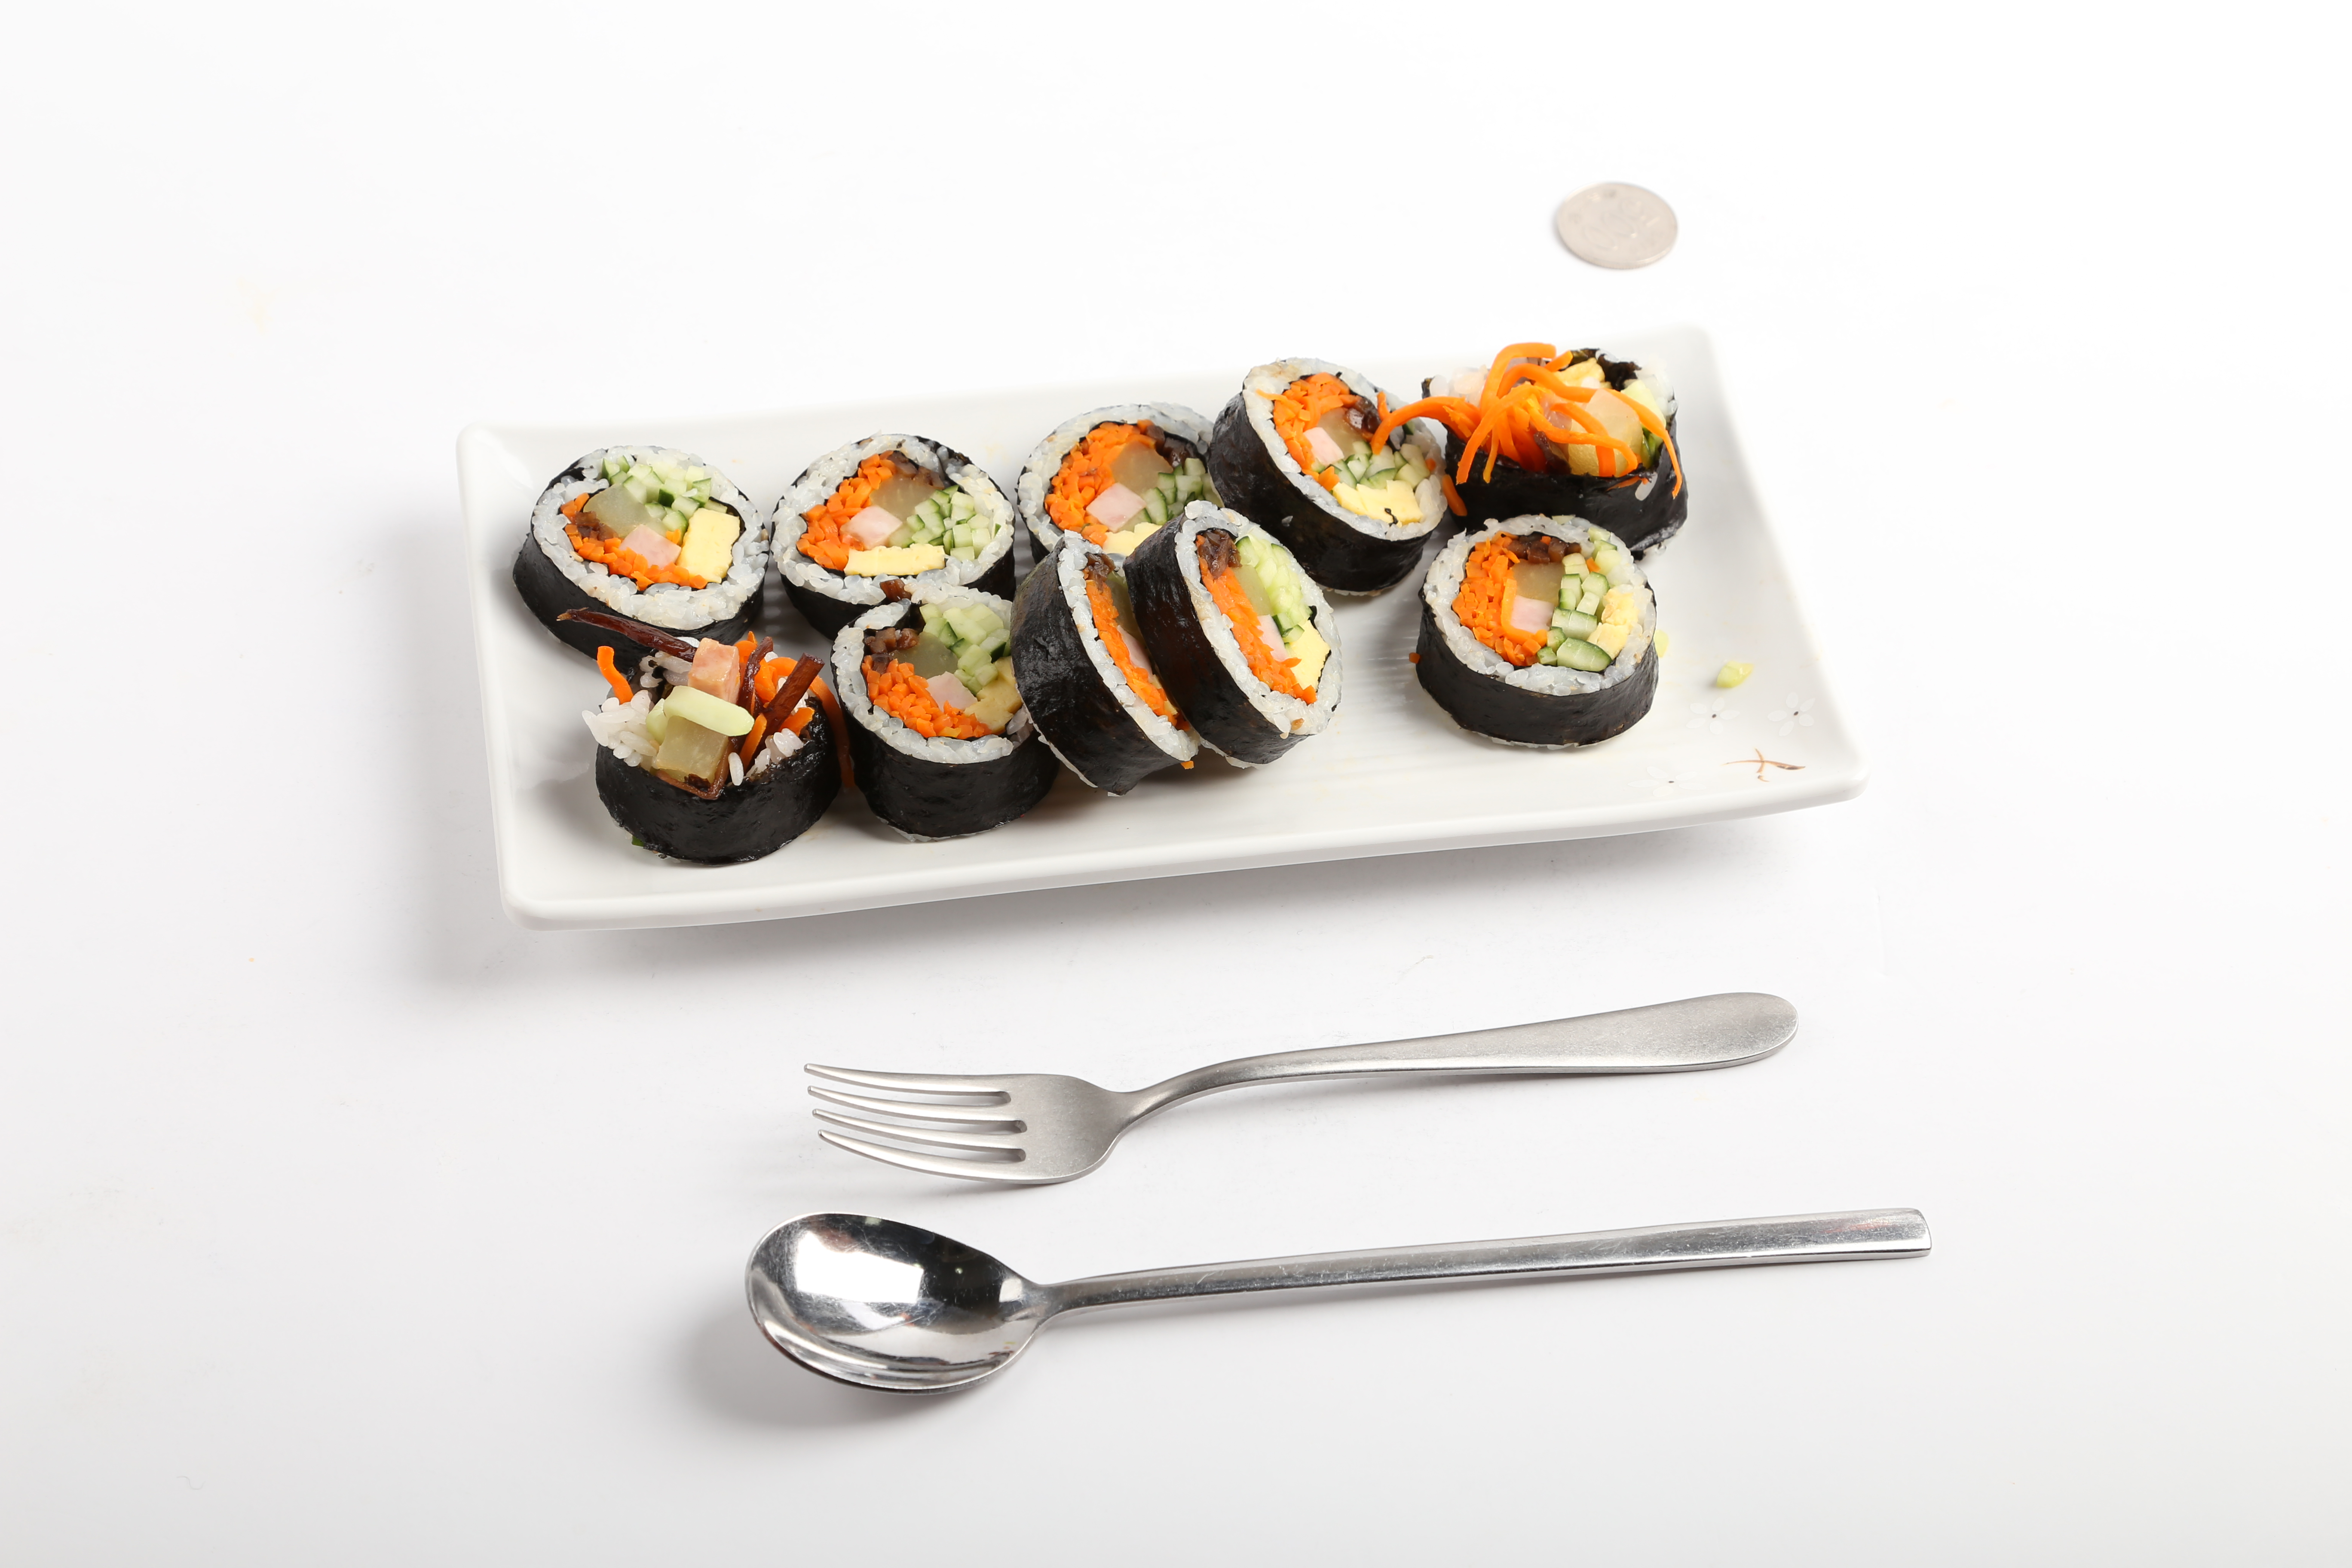dish: (444, 315, 1869, 938)
ref_coin: (1547, 173, 1683, 276)
ref_fork: (803, 1062, 1218, 1192)
ref_spoon: (740, 1206, 1115, 1398)
김밥: (513, 346, 1683, 873)
